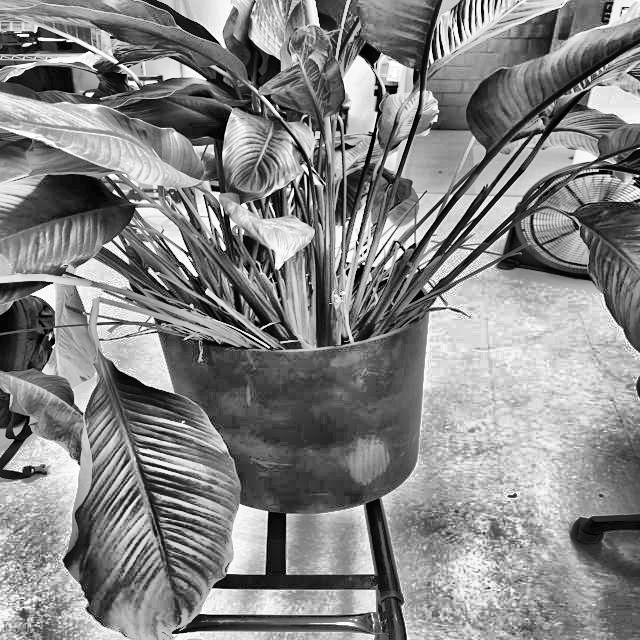plants: (0, 0, 640, 325)
